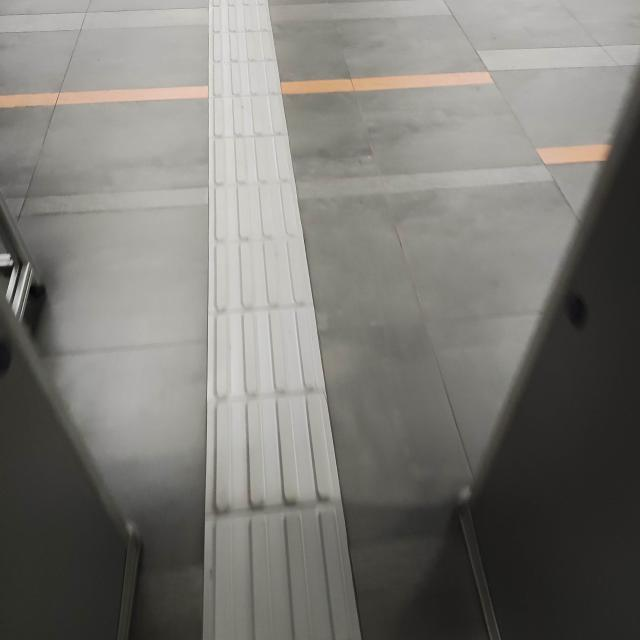lurus: (194, 23, 344, 622)
